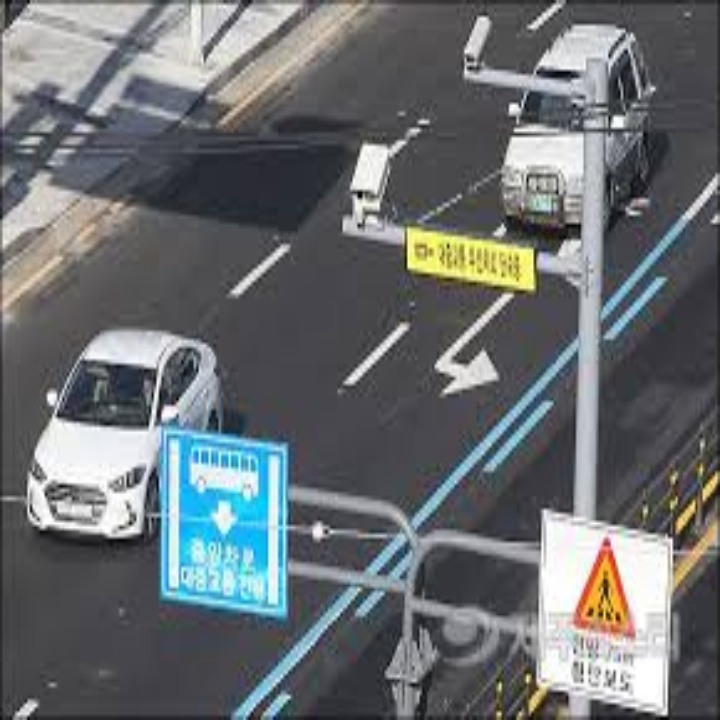bus: (186, 442, 262, 512)
cross: (579, 551, 635, 624)
